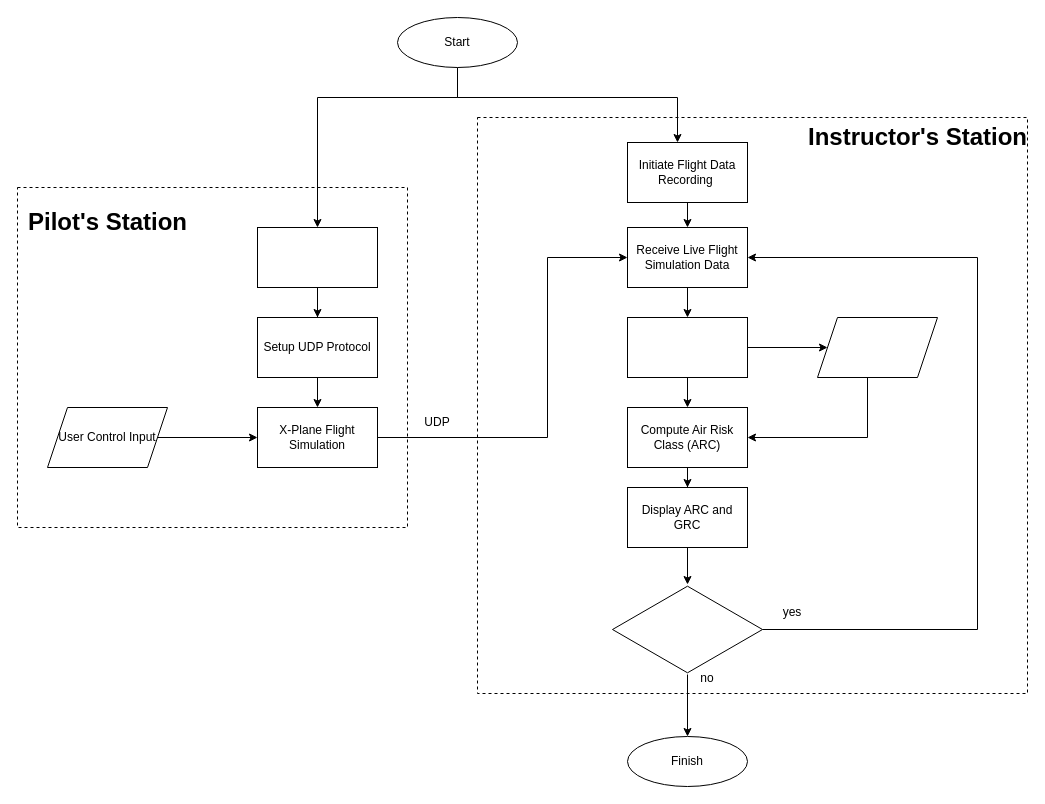
The diagram is 1045 pixels wide and 804 high, and some of its shapes have lost their labels. The box of each missing label's shape, as (x1, y1, x2, y2) in pixels:
Compute Ground Risk Class (GRC): (626, 316, 748, 378)
Ground Risk: (816, 316, 938, 378)
Initiate X-Plane Simulation: (256, 226, 378, 288)
Is the simulation still running?: (612, 584, 762, 674)
